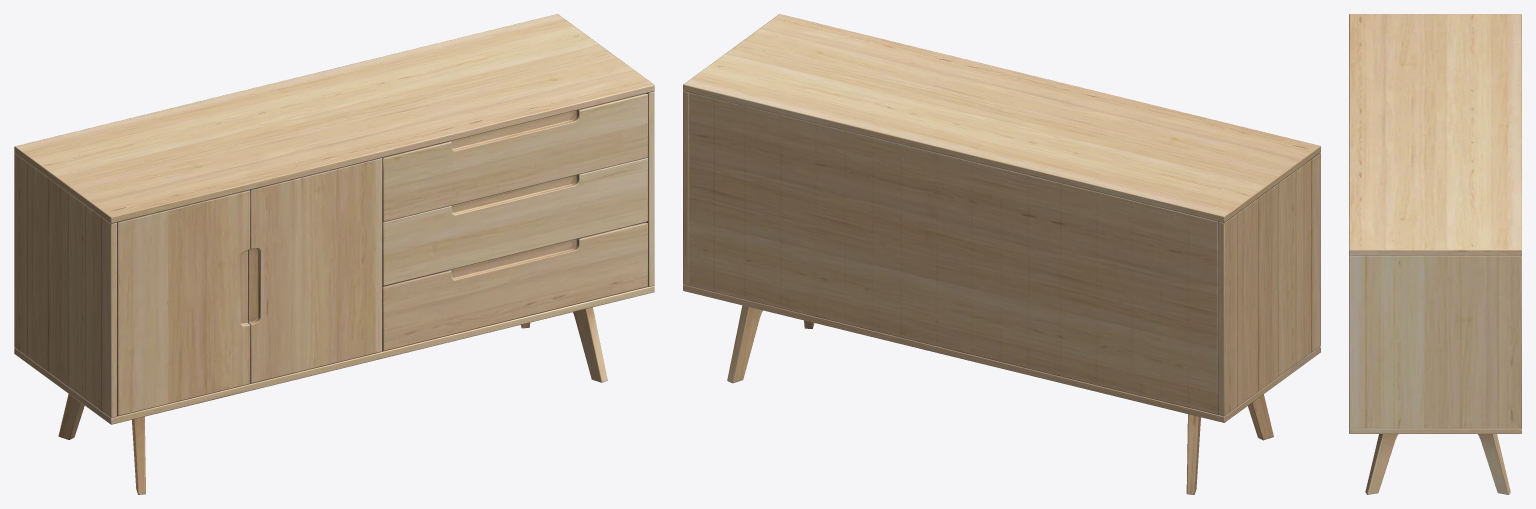
File: jenson_sideboard_solid_oak.glb
The picture shows the model from 3 angles, left to right: view 1: azimuth 30°, elevation 25°; view 2: azimuth 150°, elevation 25°; view 3: azimuth 270°, elevation 25°; orthographic projection. The views are drawn at different scales.
Parts seen in each view (by area): view 1: DARK_STAIN_OAK; view 2: DARK_STAIN_OAK; view 3: DARK_STAIN_OAK.
Boxes of the visible parts, <box> form: DARK_STAIN_OAK: <box>14,14,654,494</box>; DARK_STAIN_OAK: <box>683,14,1320,494</box>; DARK_STAIN_OAK: <box>1349,14,1521,494</box>.
Size of what is drawn, in the model's own units: 155 by 80.23 by 48.
Materials: 2 (1 with a texture image).
